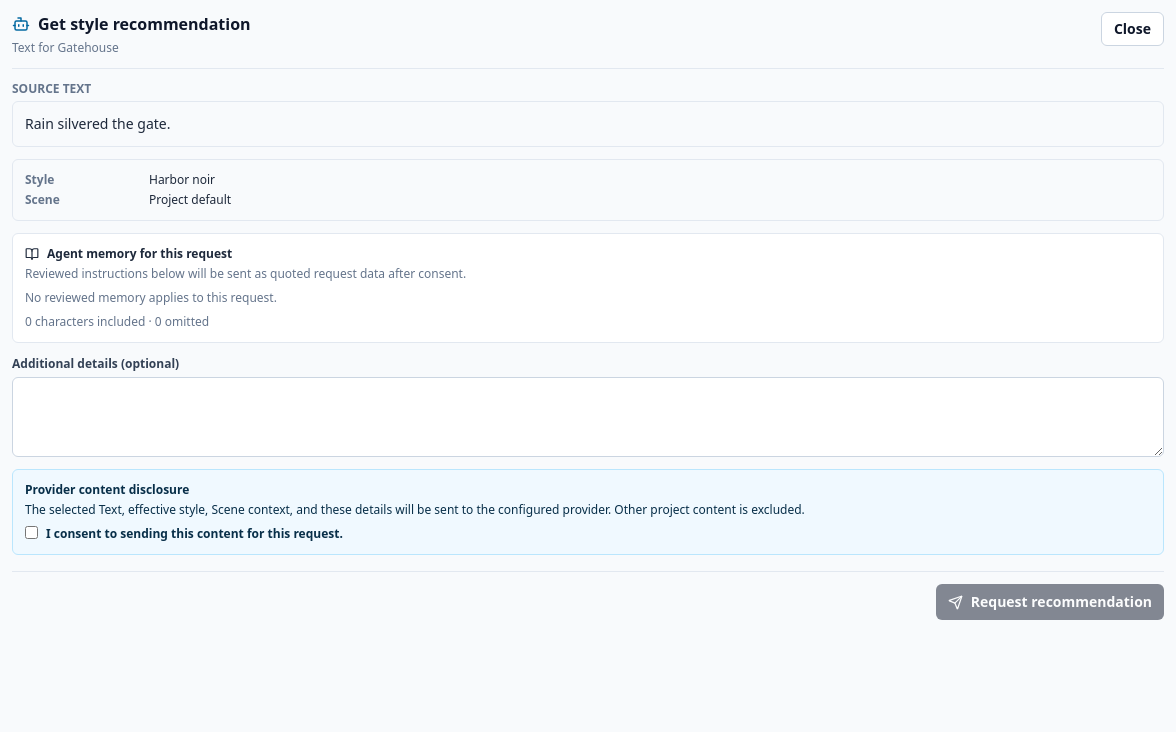
Scenario: StyleRecommendationRequest › exposes cancellation while a request is queued or running
Expected: the text "Harbor noir" is shown, [149,171,215,188]
What coordinates should you click on to do the following:
click the checkbox labelled "I consent to sending this content for this request."
I would click on:
 (32, 532)
Its box is [25,526,38,539].
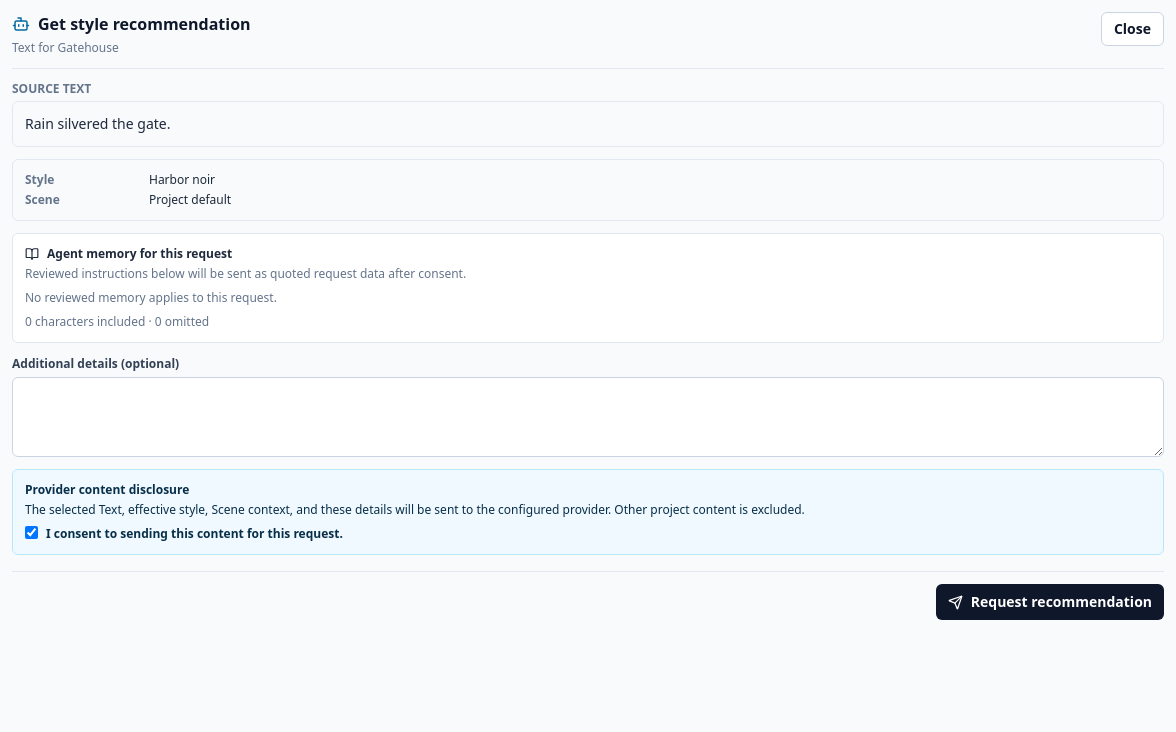
What coordinates should you click on to do the following:
click the button "Request recommendation"
I would click on:
 (1050, 602)
Its box is [936,584,1164,620].
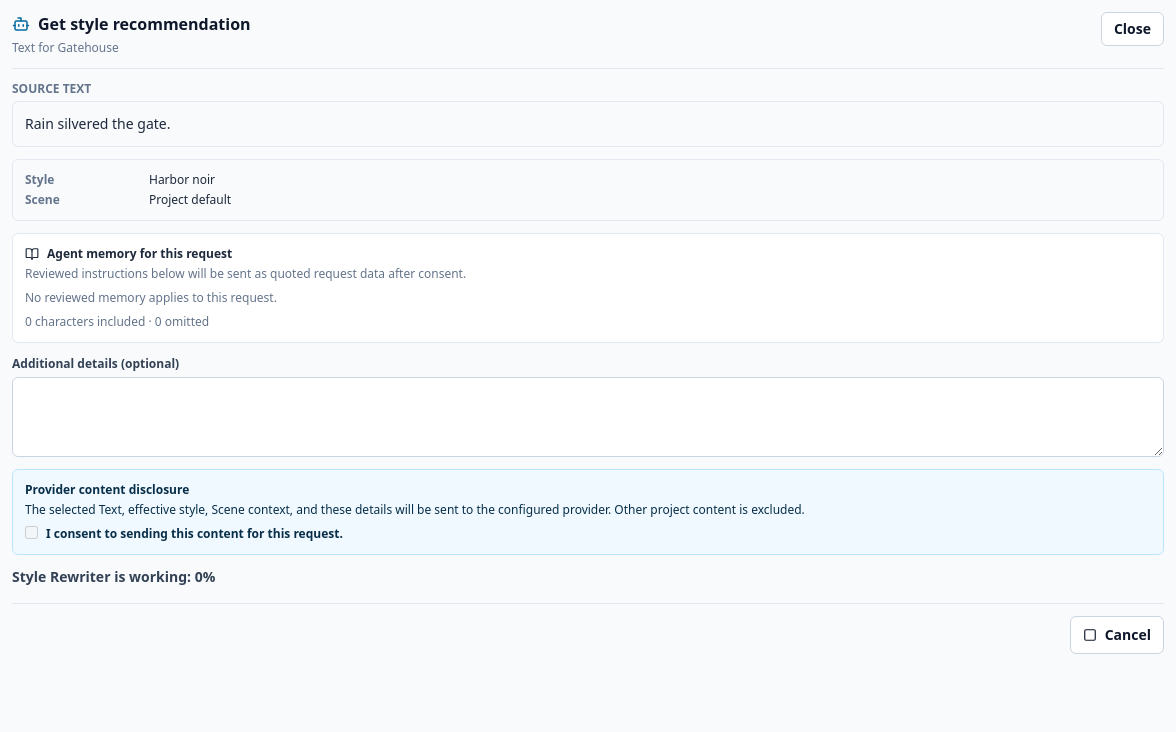
What coordinates should you click on to do the following:
click the button "Cancel"
I would click on:
 (1117, 635)
Its box is [1070,616,1164,654].
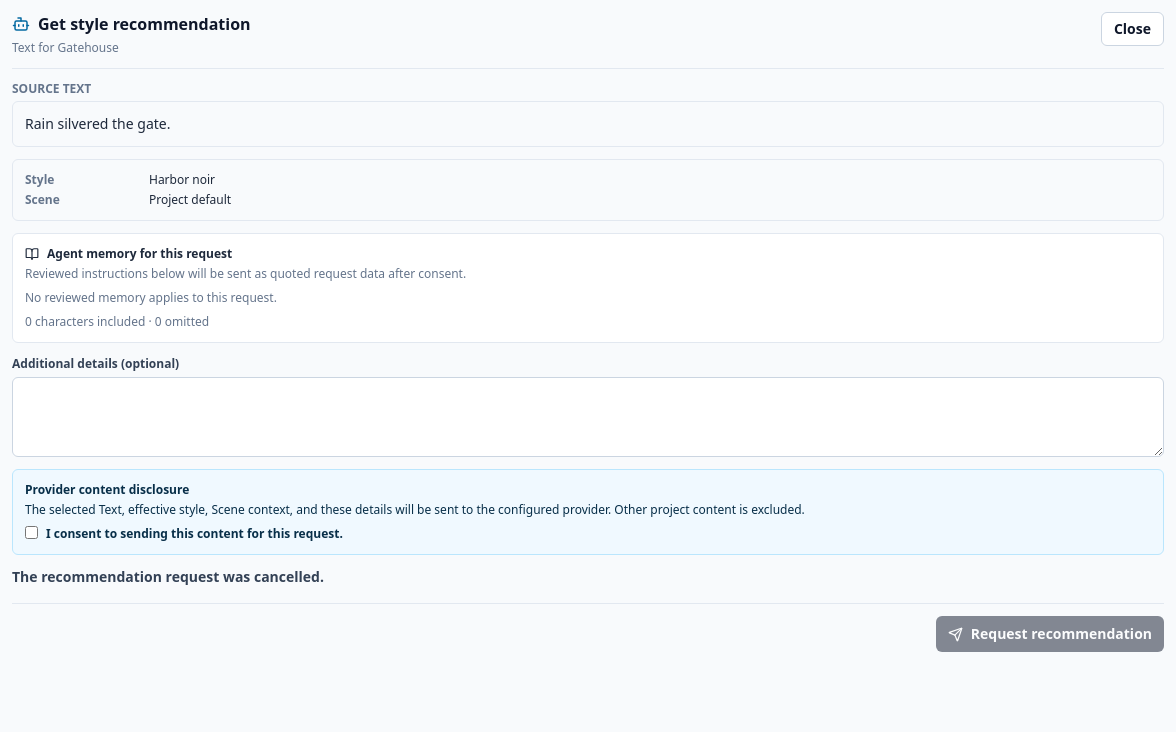
Expected: the text "The recommendation request was cancelled." is shown, [12,567,324,586]
